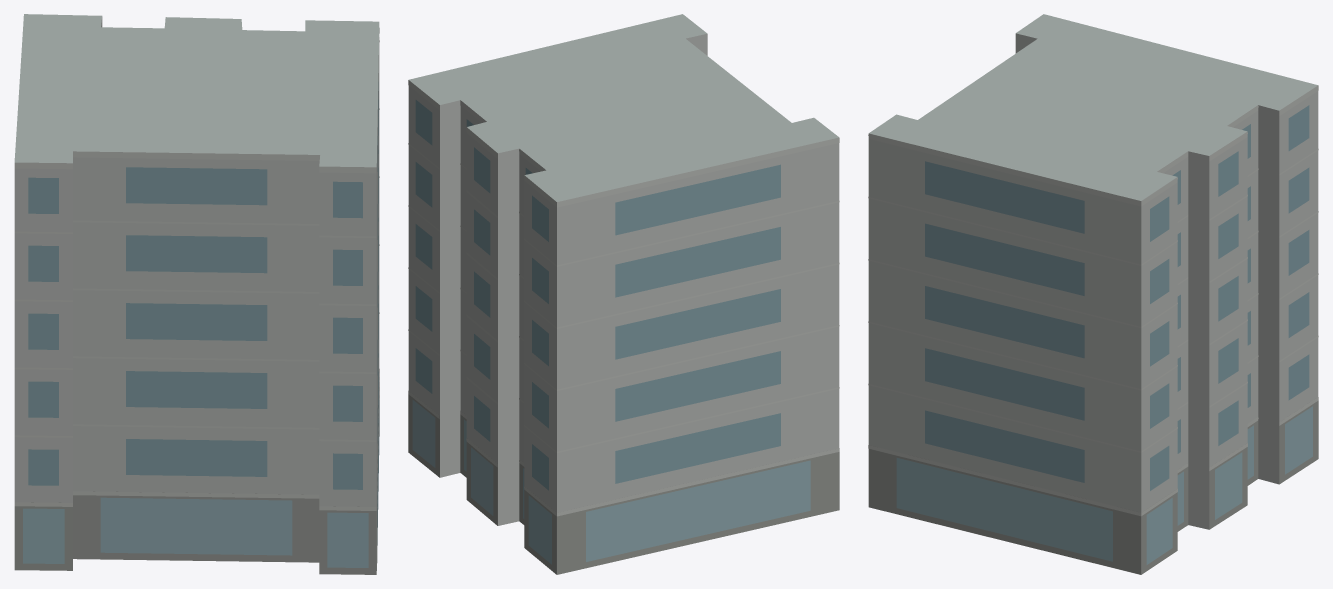
File: survey-upis-32743306.glb
3 views of the same model, side by side, from view 1: azimuth 30°, elevation 25°; view 2: azimuth 150°, elevation 25°; view 3: azimuth 270°, elevation 25° (orthographic). The views are drawn at different scales.
Visible parts, largest first — view 1: survey-upis-32743306.tmp; view 2: survey-upis-32743306.tmp; view 3: survey-upis-32743306.tmp.
Boxes of the visible parts, <box> form: survey-upis-32743306.tmp: <box>14,14,379,574</box>; survey-upis-32743306.tmp: <box>408,14,839,574</box>; survey-upis-32743306.tmp: <box>868,14,1318,574</box>.
Bounding box in the file's own units: 17.74 × 16.5 × 18.02.
